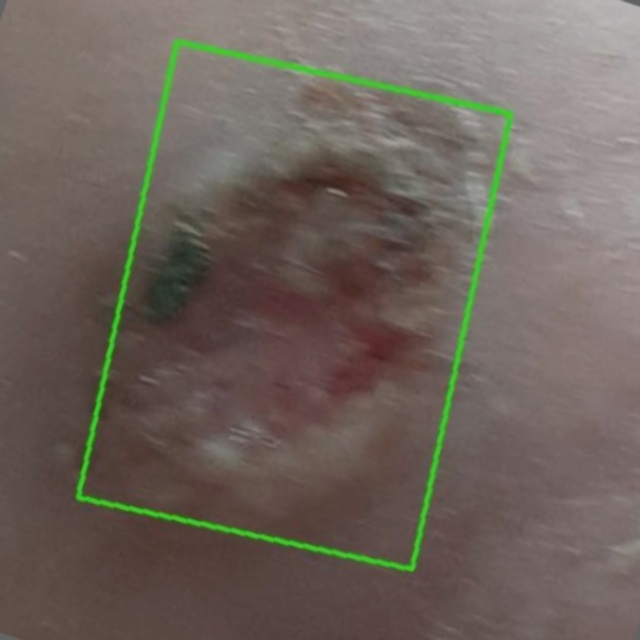Eczema: (78, 42, 511, 570)
